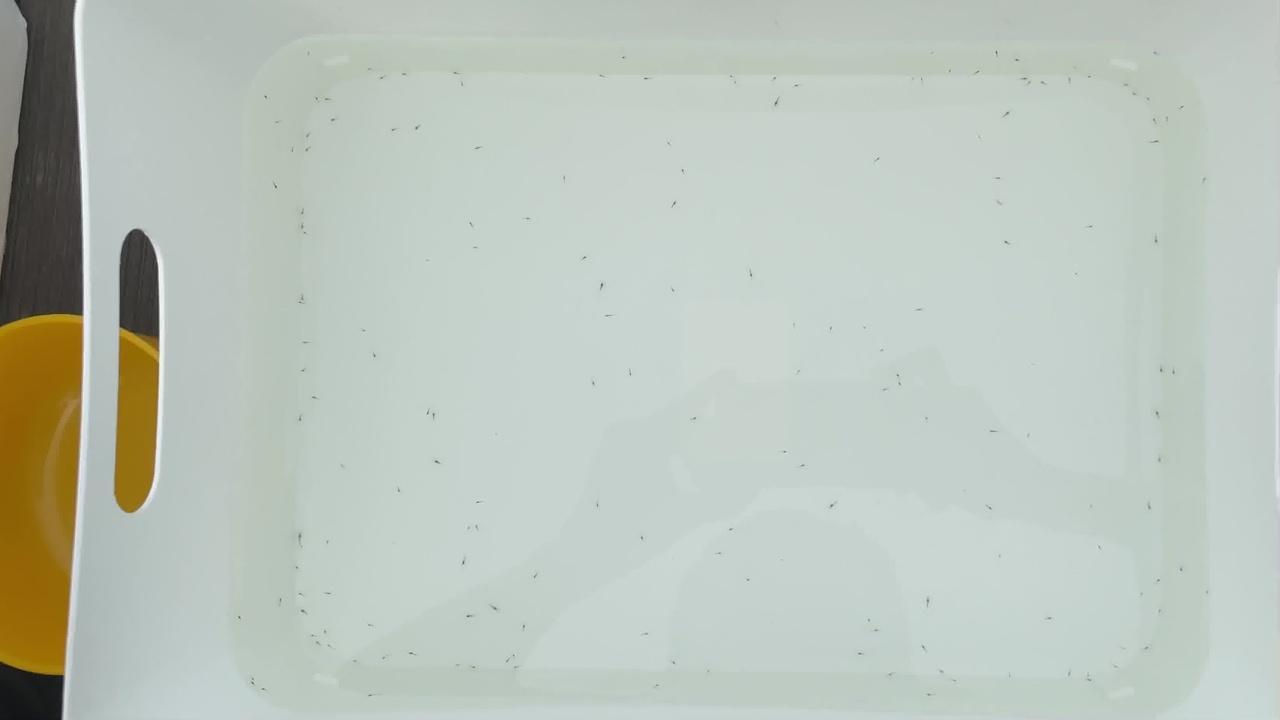shrimp: (312, 96, 325, 104), (375, 74, 388, 82), (451, 69, 464, 77), (300, 229, 313, 237), (668, 201, 681, 209), (677, 168, 690, 176), (663, 141, 676, 149), (729, 80, 742, 88), (872, 157, 885, 165), (1011, 57, 1024, 65), (1002, 240, 1015, 248), (1083, 223, 1096, 231), (1129, 90, 1142, 98), (1083, 74, 1096, 82), (1156, 367, 1169, 375), (1156, 456, 1169, 464), (914, 306, 927, 314), (588, 379, 601, 387), (297, 367, 310, 375), (309, 395, 322, 403), (370, 351, 383, 359), (471, 522, 484, 530), (457, 556, 470, 564), (531, 572, 544, 580), (452, 661, 465, 669), (313, 639, 326, 647), (308, 634, 321, 642), (296, 534, 309, 542), (714, 550, 727, 558), (1153, 606, 1166, 614), (1118, 645, 1131, 653), (936, 667, 949, 675), (886, 672, 899, 680), (855, 650, 868, 658), (862, 617, 875, 625), (919, 644, 932, 652), (302, 146, 314, 154), (973, 69, 985, 77), (994, 174, 1006, 182), (989, 428, 1001, 436), (380, 655, 392, 663), (1111, 661, 1123, 669), (261, 96, 274, 103), (273, 119, 286, 126), (269, 180, 282, 187), (286, 148, 299, 155), (303, 132, 316, 139), (328, 118, 341, 125), (321, 97, 334, 104), (399, 72, 412, 79), (411, 125, 424, 132), (387, 128, 400, 135), (472, 146, 485, 153), (466, 222, 479, 229), (469, 244, 482, 251), (298, 223, 311, 230), (297, 210, 310, 217), (297, 295, 310, 302), (296, 301, 309, 308), (299, 340, 312, 347), (360, 328, 373, 335), (521, 216, 534, 223), (596, 284, 609, 291), (603, 313, 616, 320), (560, 175, 573, 182), (642, 75, 655, 82), (618, 56, 631, 63), (726, 74, 739, 81), (770, 75, 783, 82), (791, 83, 804, 90), (771, 101, 784, 108), (906, 77, 919, 84), (926, 49, 939, 56), (944, 68, 957, 75), (992, 49, 1005, 56), (1021, 75, 1034, 82), (1025, 82, 1038, 89), (1038, 79, 1051, 86), (1002, 111, 1015, 118), (975, 133, 988, 140), (993, 201, 1006, 208), (1151, 139, 1164, 146), (1148, 118, 1161, 125), (1161, 118, 1174, 125), (1143, 96, 1156, 103), (1121, 81, 1134, 88), (1063, 78, 1076, 85), (1168, 370, 1181, 377), (1153, 410, 1166, 417), (1143, 504, 1156, 511), (1086, 502, 1099, 509), (984, 506, 997, 513), (981, 504, 994, 511), (1022, 431, 1035, 438), (895, 380, 908, 387), (892, 372, 905, 379), (877, 347, 890, 354), (860, 324, 873, 331), (826, 325, 839, 332), (792, 371, 805, 378), (687, 415, 700, 422), (624, 370, 637, 377), (591, 502, 604, 509), (726, 527, 739, 534), (779, 450, 792, 457), (798, 463, 811, 470), (827, 504, 840, 511), (296, 416, 309, 423), (423, 407, 436, 414), (433, 458, 446, 465), (394, 487, 407, 494), (473, 497, 486, 504), (463, 527, 476, 534), (518, 625, 531, 632), (508, 653, 521, 660), (512, 663, 525, 670), (406, 651, 419, 658), (363, 692, 376, 699), (349, 658, 362, 665), (365, 623, 378, 630), (320, 628, 333, 635), (297, 607, 310, 614), (294, 590, 307, 597), (232, 614, 245, 621), (247, 674, 260, 681), (247, 680, 260, 687), (322, 590, 335, 597), (323, 540, 336, 547), (668, 659, 681, 666), (639, 631, 652, 638), (637, 535, 650, 542), (743, 577, 756, 584), (1136, 589, 1149, 596), (1153, 578, 1166, 585), (1174, 567, 1187, 574), (1200, 587, 1213, 594), (1140, 647, 1153, 654), (1158, 632, 1171, 639), (1063, 671, 1076, 678), (872, 626, 885, 633), (959, 488, 972, 495), (302, 50, 314, 57), (363, 67, 375, 74), (457, 84, 469, 91), (579, 255, 591, 262), (668, 286, 680, 293), (745, 273, 757, 280), (596, 74, 608, 81), (917, 78, 929, 85), (1150, 238, 1162, 245), (1200, 178, 1212, 185), (1177, 104, 1189, 111), (1149, 51, 1161, 58), (922, 416, 934, 423), (878, 386, 890, 393), (789, 322, 801, 329), (430, 414, 442, 421), (335, 463, 347, 470), (490, 605, 502, 612), (463, 614, 475, 621), (502, 659, 514, 666), (468, 664, 480, 671), (324, 644, 336, 651), (275, 598, 287, 605), (258, 687, 270, 694), (291, 566, 303, 573), (651, 685, 663, 692), (922, 598, 934, 605), (995, 553, 1007, 560), (1045, 614, 1057, 621), (1094, 544, 1106, 551), (1083, 675, 1095, 682), (923, 692, 935, 699)
